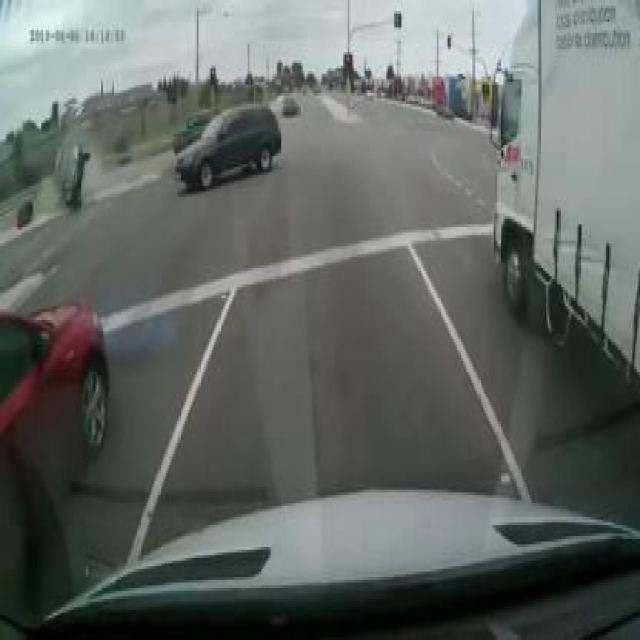accident: (48, 142, 90, 211)
